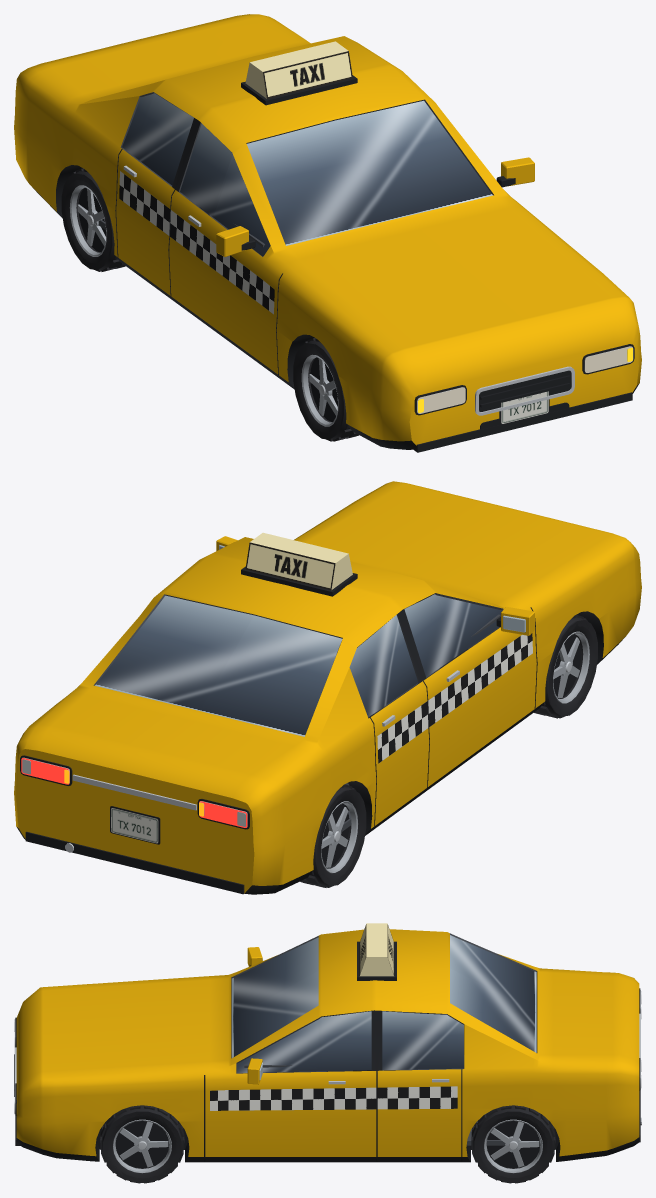
File: Taxi.fbx
3 views of the same model, one above another, from view 1: azimuth 30°, elevation 25°; view 2: azimuth 150°, elevation 25°; view 3: azimuth 270°, elevation 25° (orthographic). The views are drawn at different scales.
Visible parts, largest first — view 1: Body, Wheel_FR, Wheel_RR; view 2: Body, Wheel_FR, Wheel_RR; view 3: Body, Wheel_FL, Wheel_RL.
Part boxes in pixels (x1,y1,x2,y2): Body: [14, 14, 641, 452]; Wheel_FR: [293, 338, 358, 441]; Wheel_RR: [61, 168, 125, 271]; Body: [14, 481, 641, 894]; Wheel_FR: [534, 614, 597, 718]; Wheel_RR: [300, 784, 366, 887]; Body: [14, 923, 641, 1162]; Wheel_FL: [100, 1105, 184, 1183]; Wheel_RL: [471, 1105, 555, 1183].
Size of the model in its own units: 2.19 by 1.63 by 4.74.
